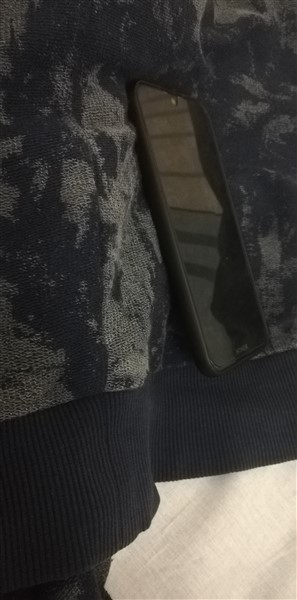telefon: (128, 77, 268, 376)
